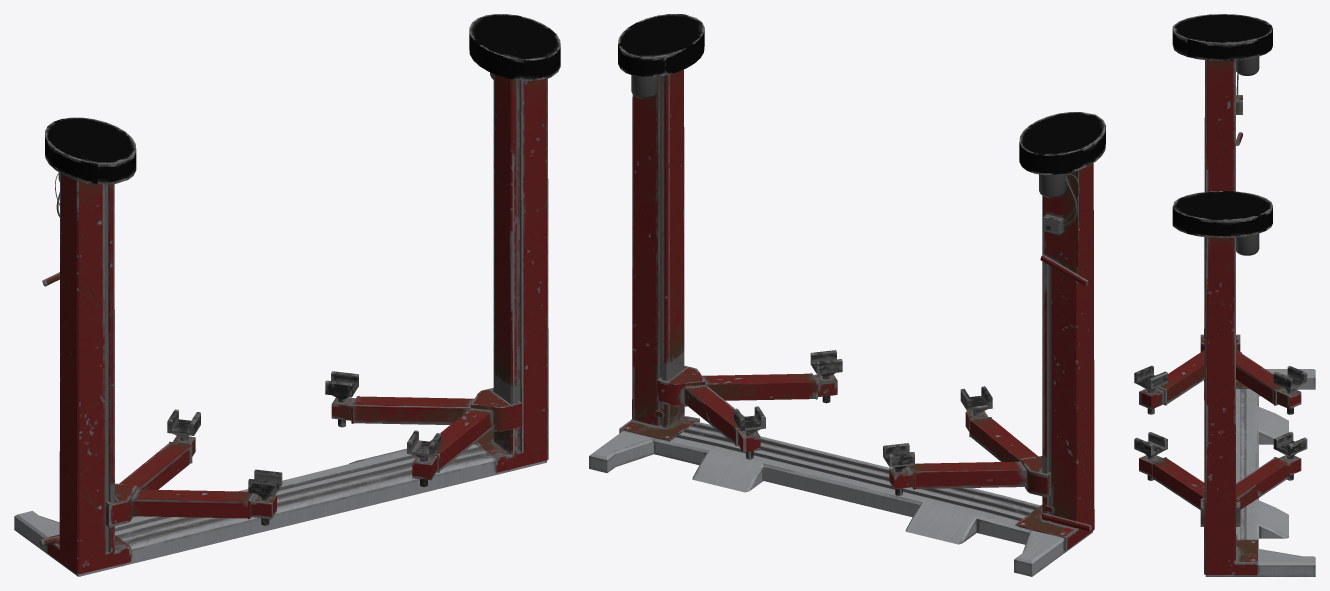
The model's file is Elevador de carro.fbx.
3 views of the same model, side by side, from view 1: azimuth 30°, elevation 25°; view 2: azimuth 150°, elevation 25°; view 3: azimuth 270°, elevation 25° (orthographic). The views are drawn at different scales.
Visible parts, largest first — view 1: Cube, Cube.001; view 2: Cube, Cube.001; view 3: Cube, Cube.001.
Part boxes in pixels (x1,y1,x2,y2): Cube: [14, 14, 560, 576]; Cube.001: [105, 371, 522, 527]; Cube: [589, 14, 1105, 576]; Cube.001: [657, 350, 1050, 497]; Cube: [1172, 14, 1315, 576]; Cube.001: [1134, 334, 1307, 526].
Size of the model in its own units: 374 by 303 by 137.
1 material, 1 textured.
